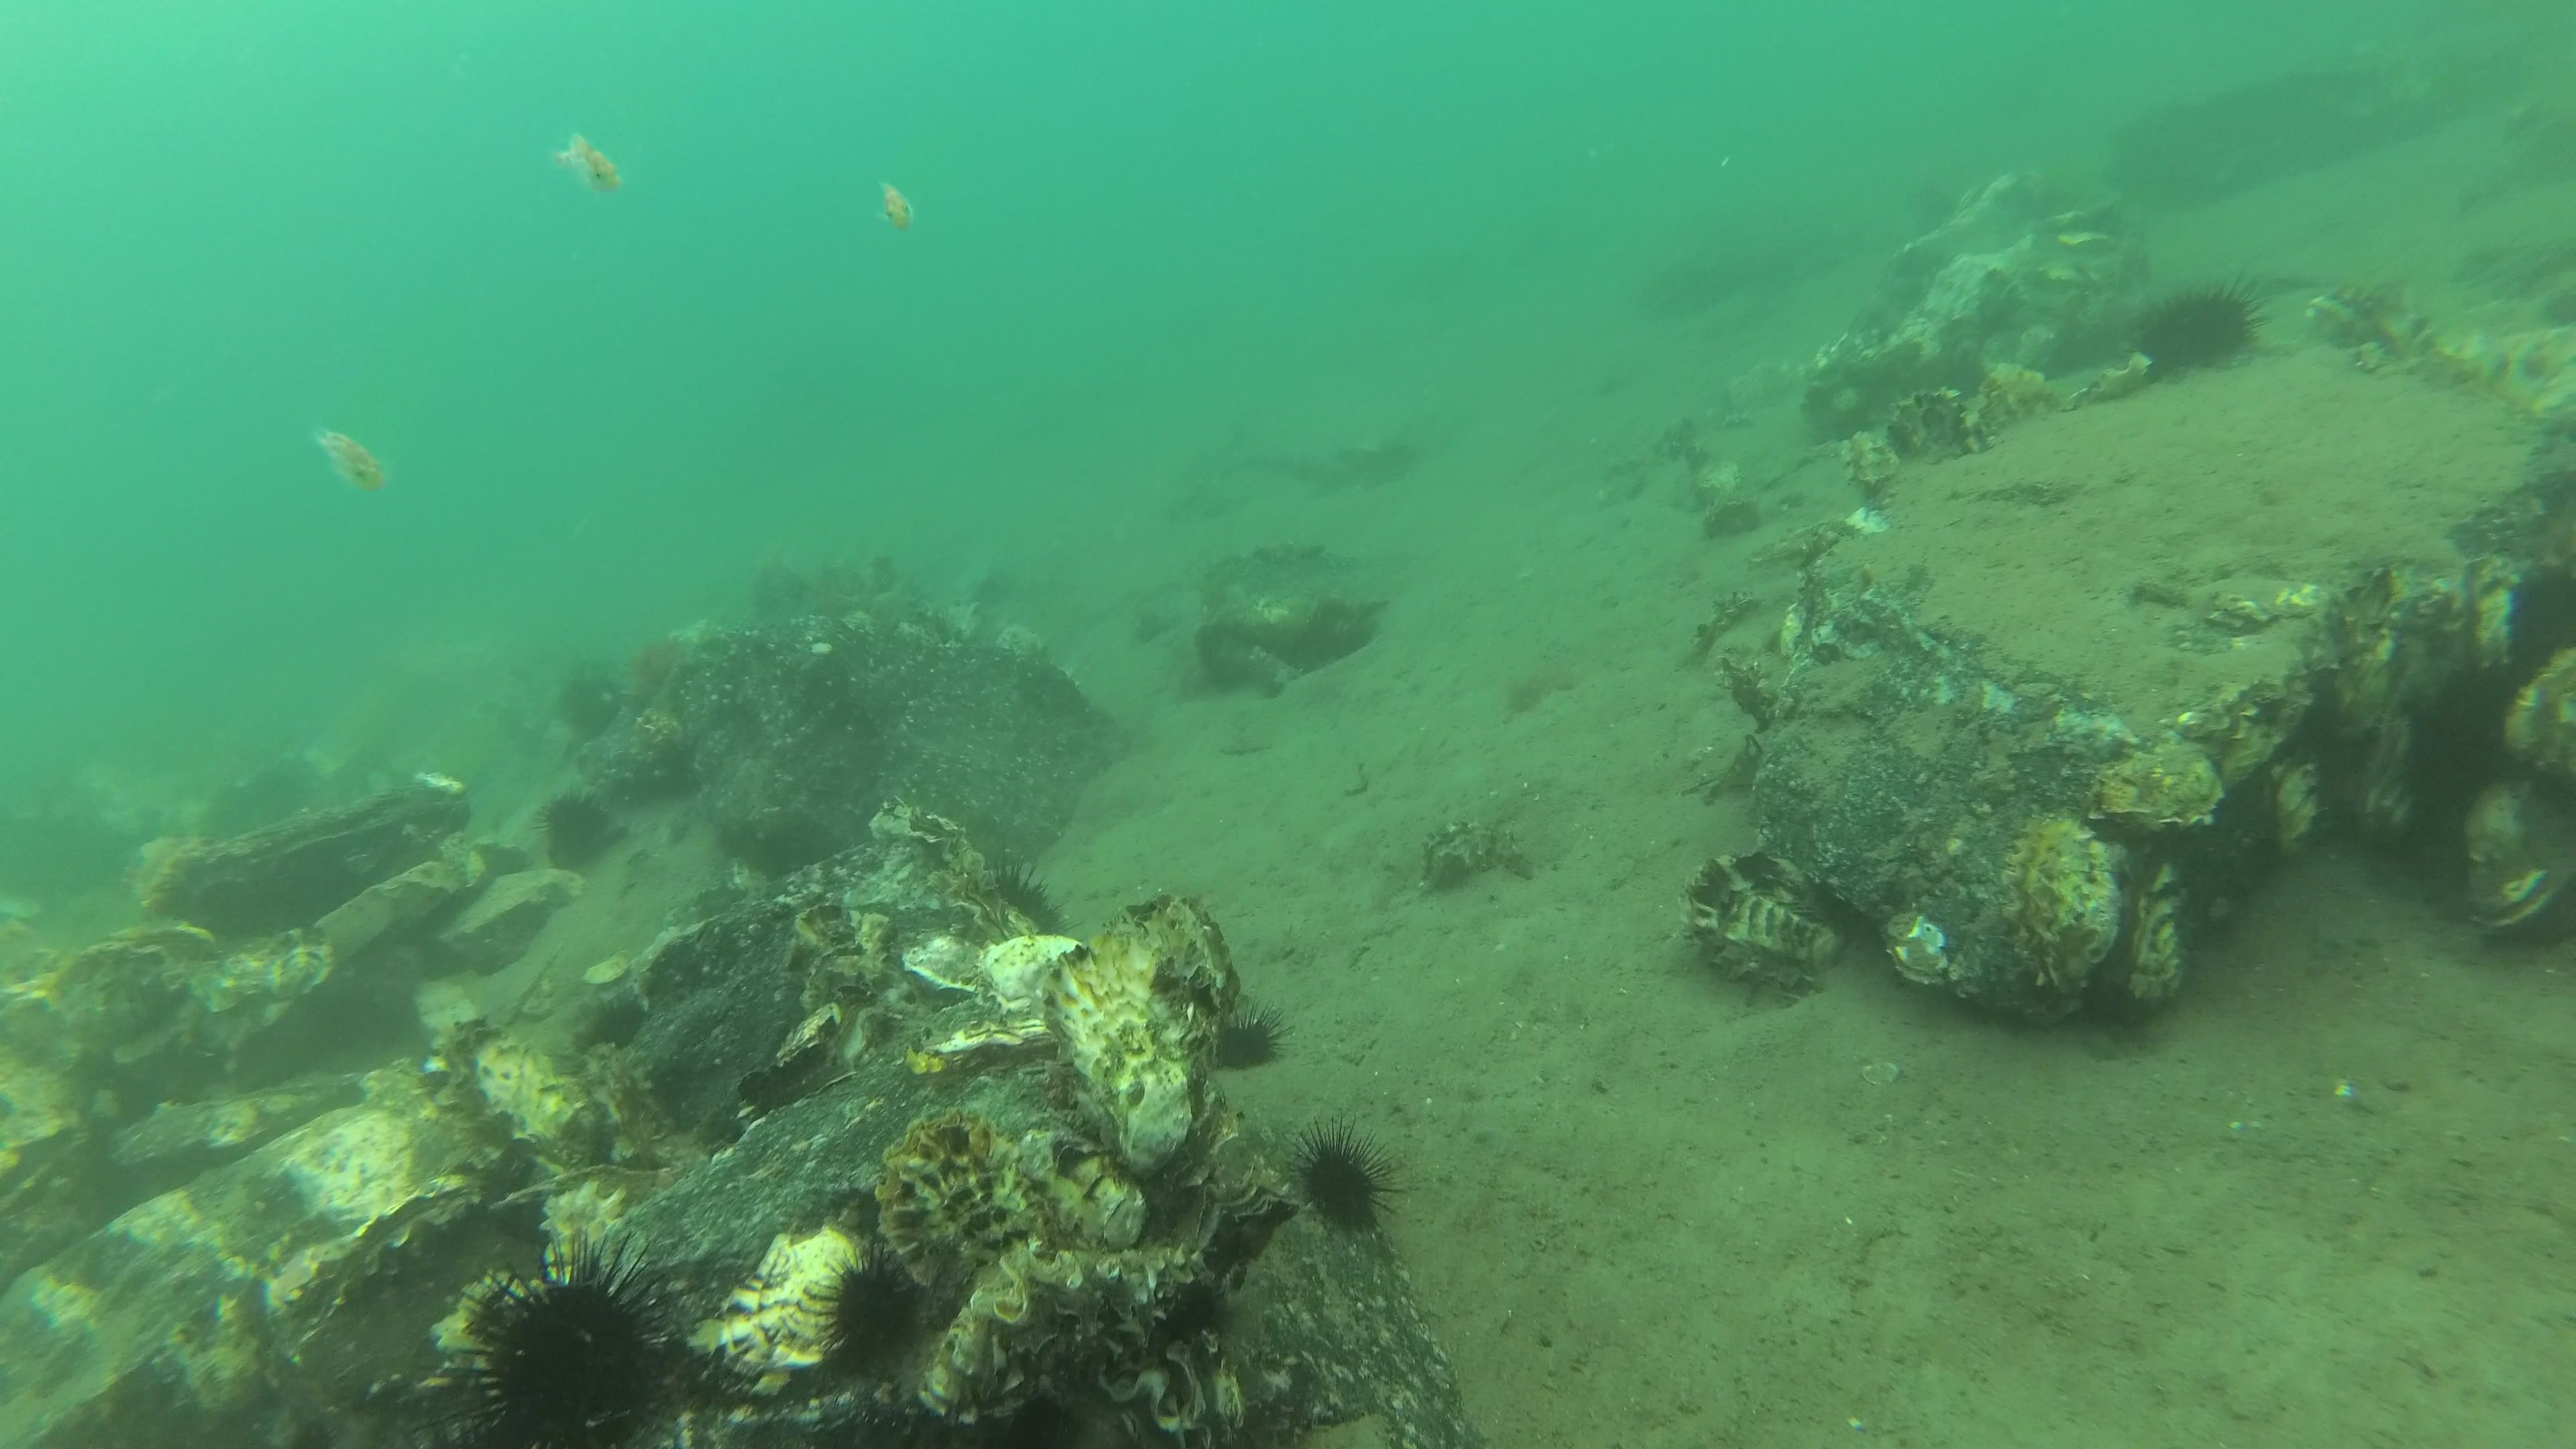echinus: (405, 1230, 686, 1449), (2401, 663, 2518, 821), (1284, 1111, 1417, 1240), (2118, 280, 2272, 377), (807, 1244, 927, 1368), (980, 839, 1085, 938), (2507, 561, 2576, 674), (1208, 996, 1300, 1074), (531, 787, 617, 860), (571, 991, 653, 1060), (552, 676, 626, 736)
